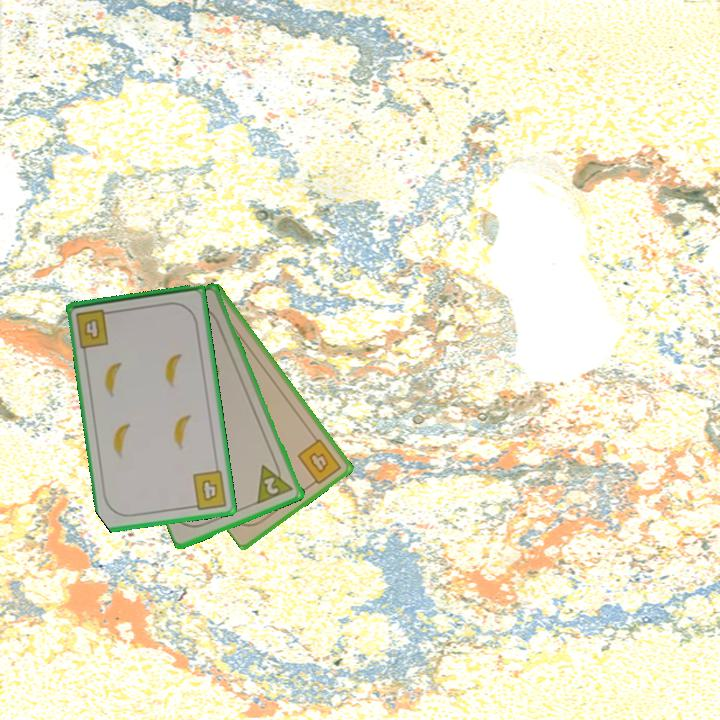2p: (254, 456, 297, 507)
4b: (294, 435, 344, 490), (72, 305, 117, 351), (186, 467, 230, 512)
